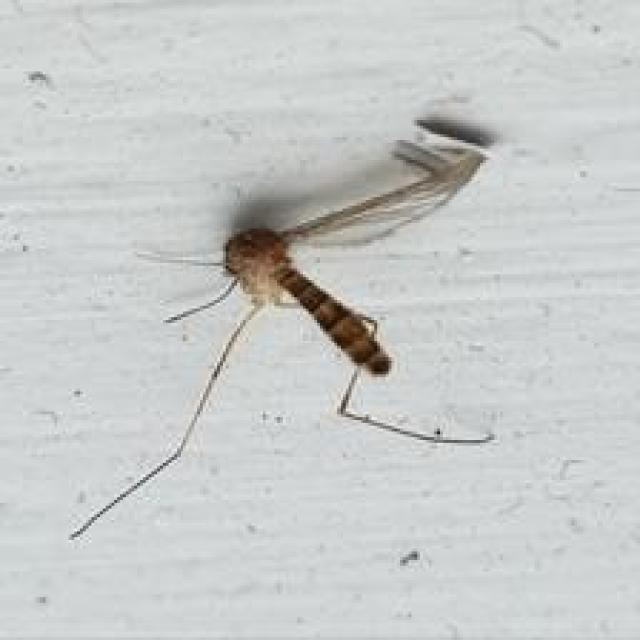Culex: (67, 113, 499, 541)
